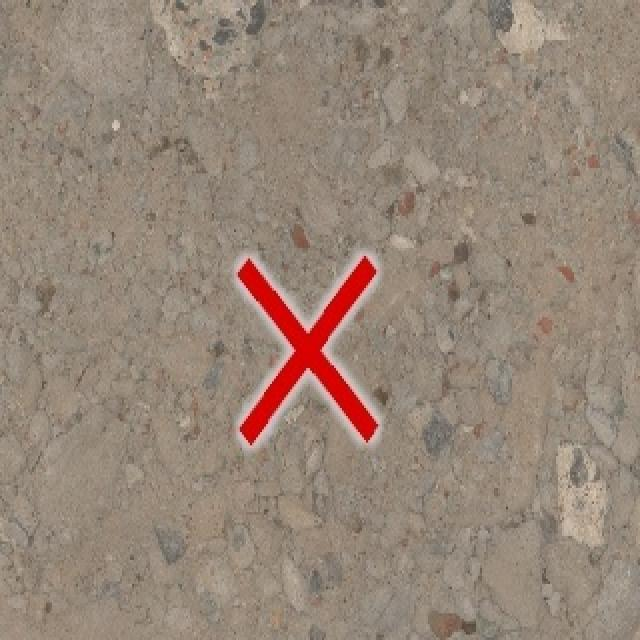x_marker: (237, 255, 377, 444)
